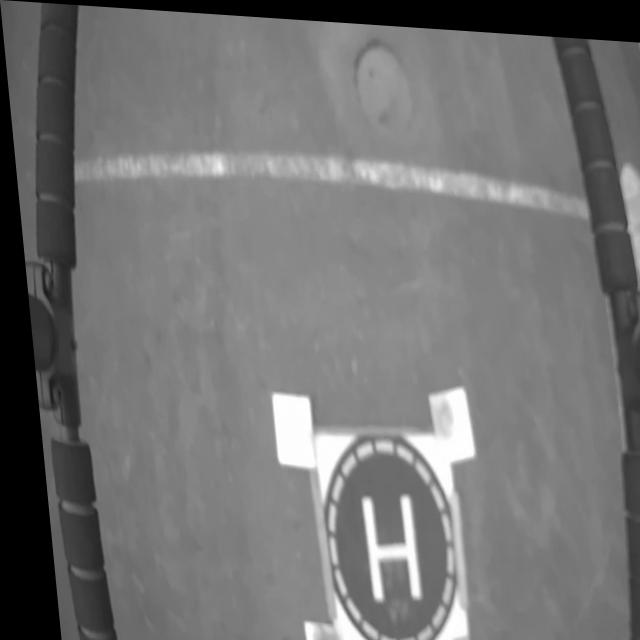Helipad: (351, 487, 411, 597)
